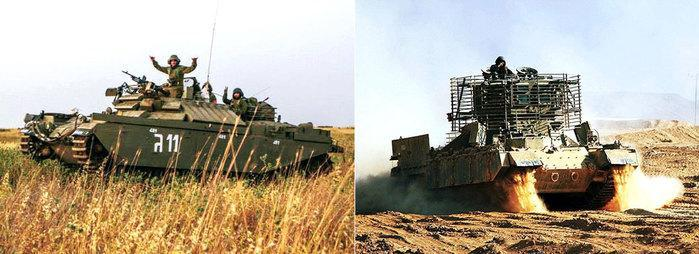MIL_IFV: (386, 57, 640, 213), (20, 83, 343, 189)
